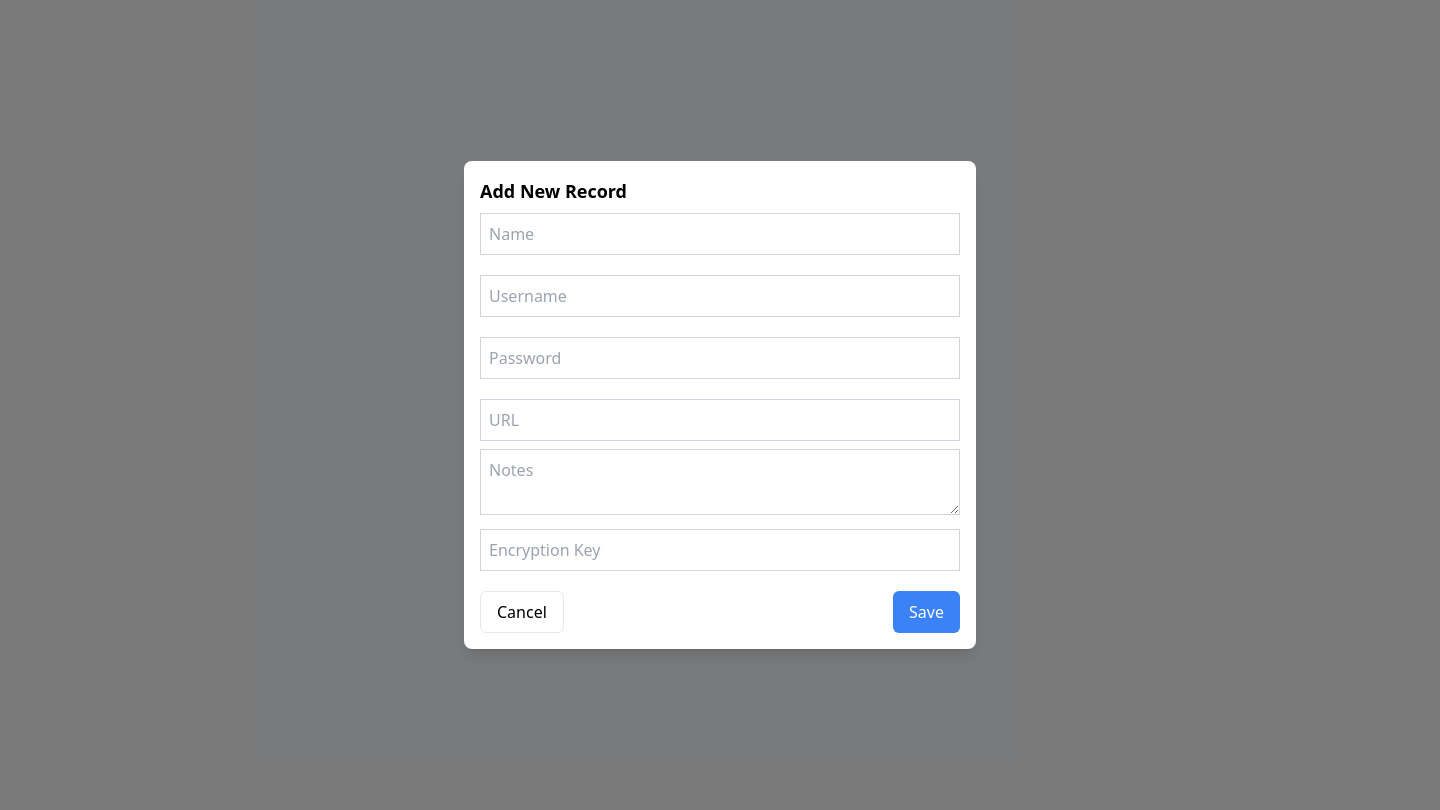
it: PasswordRecordModal › validates the form and shows error messages when required fields are missing
Click the button with test id "record-save-button" at (927, 612), box x1=893 y1=591 x2=960 y2=633
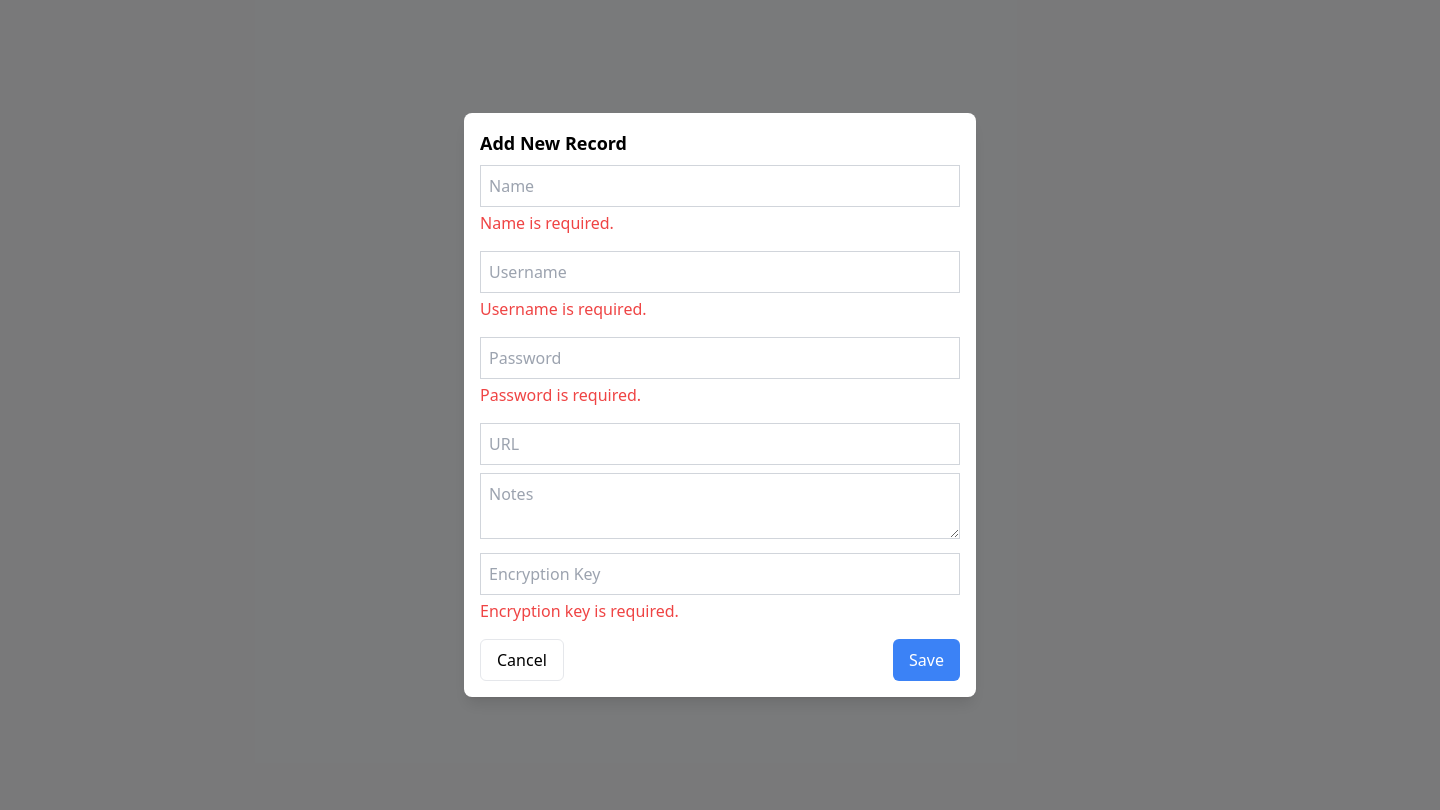
Result: the text "Name is required." is shown at x1=480 y1=212 x2=614 y2=234
Result: the text "Username is required." is shown at x1=480 y1=298 x2=647 y2=320
Result: the text "Password is required." is shown at x1=480 y1=384 x2=641 y2=406
